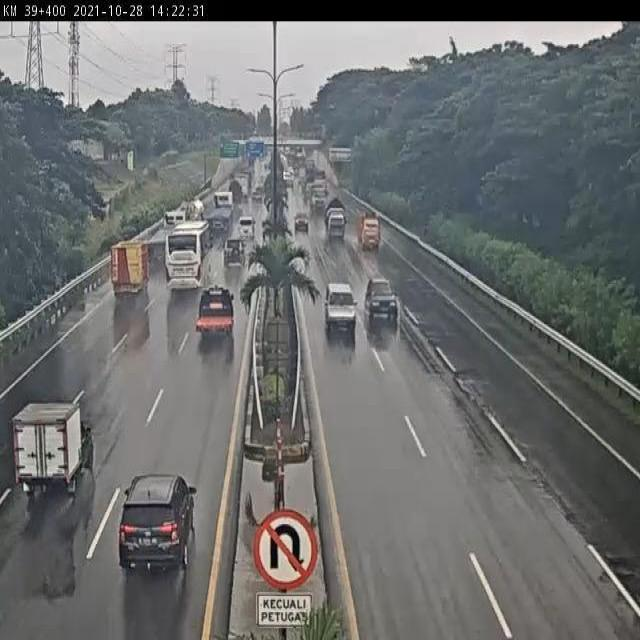bus-l-: (166, 221, 210, 288)
car: (13, 397, 93, 503), (119, 472, 196, 579), (236, 216, 257, 243)
truck-l-: (134, 207, 187, 261), (205, 188, 236, 233)
truck-m-: (178, 193, 206, 224)
truck-s-: (110, 239, 151, 296), (193, 288, 236, 337), (323, 196, 348, 243), (355, 207, 381, 252)
